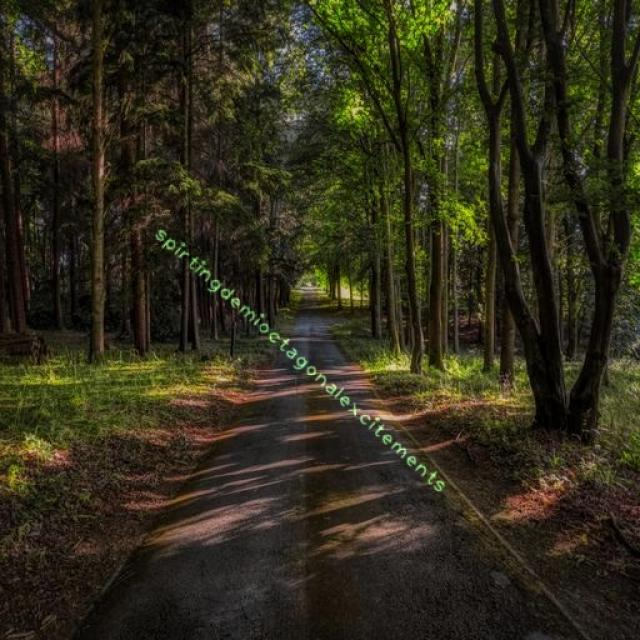watermark: (147, 220, 453, 497)
